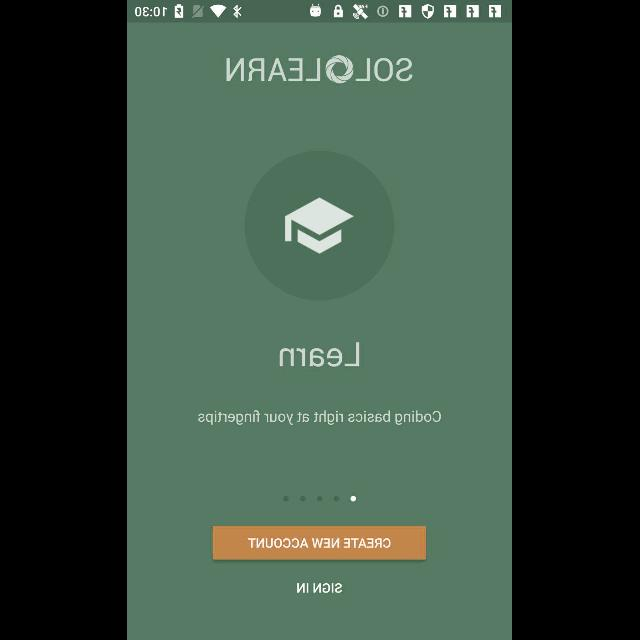image: (246, 150, 396, 300), (226, 56, 414, 84)
pageindicator: (283, 496, 357, 502)
text: (199, 409, 443, 426), (280, 342, 360, 368), (297, 582, 343, 594)
textbutton: (213, 526, 427, 560)
uppertaskbar: (128, 1, 512, 23)
